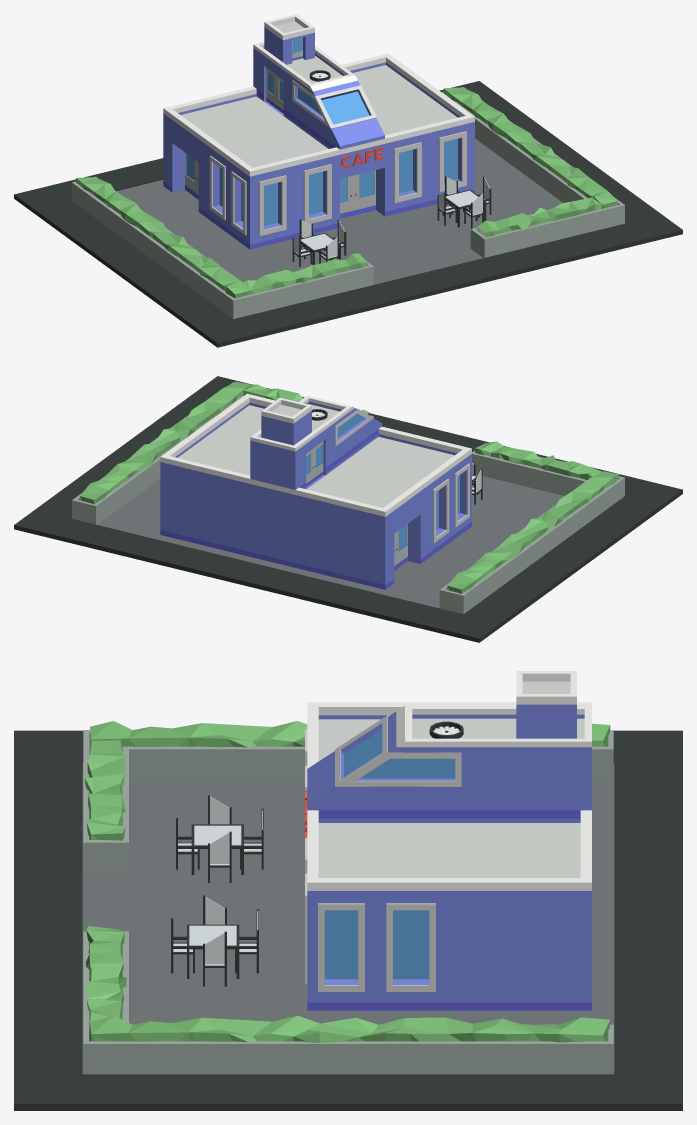
File: Cafe.fbx
The picture shows the model from 3 angles, top to bottom: view 1: azimuth 30°, elevation 25°; view 2: azimuth 150°, elevation 25°; view 3: azimuth 270°, elevation 25°; orthographic projection. The views are drawn at different scales.
Visible parts, largest first — view 1: Platform, Cafe, Table, Table_2; view 2: Platform, Cafe; view 3: Platform, Cafe, Table, Table_2.
Boxes of the visible parts, box(x1,y1,x2,y2) form: Platform: box(14, 81, 682, 347); Cafe: box(163, 14, 474, 249); Table: box(437, 176, 491, 228); Table_2: box(292, 219, 346, 266); Platform: box(14, 376, 682, 642); Cafe: box(160, 393, 471, 589); Platform: box(14, 721, 682, 1110); Cafe: box(305, 671, 591, 1010); Table: box(171, 895, 258, 986); Table_2: box(176, 795, 263, 882).
Size of the model in its own units: 298 by 89.95 by 226.
1 material, 1 textured.
